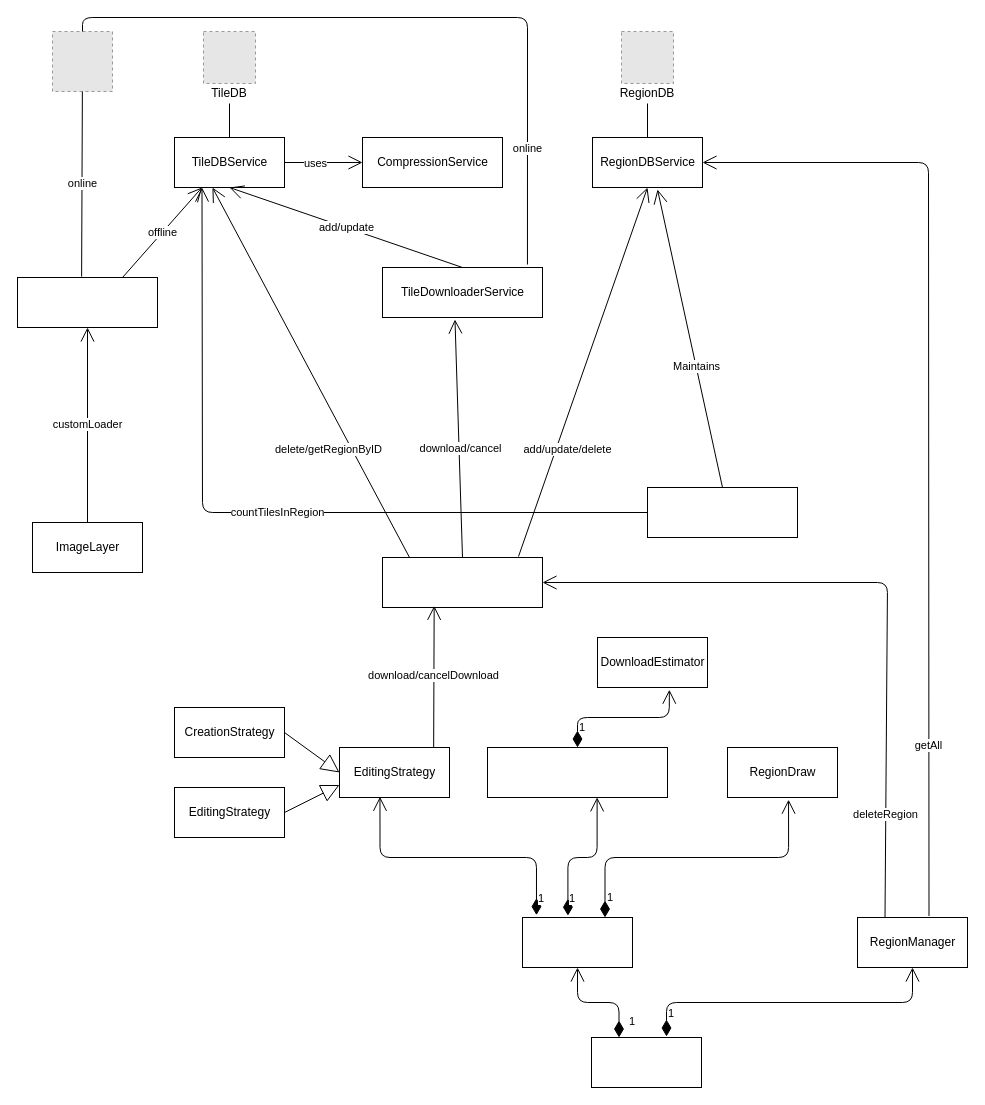
Image size: 985x1105. Some labels were removed from this diagram. Grey dashed boxes stand in for pictures. Each missing label, with the centre of its shape:
"DownloadRegionService" belongs at point 462,582.
"DownloadTool" belongs at point 646,1062.
"GeoNetworkService" belongs at point 87,302.
"RegionDBAdminService" belongs at point 722,512.
"RegionDownloadEstimation" belongs at point 577,772.
"RegionEditor" belongs at point 577,942.
